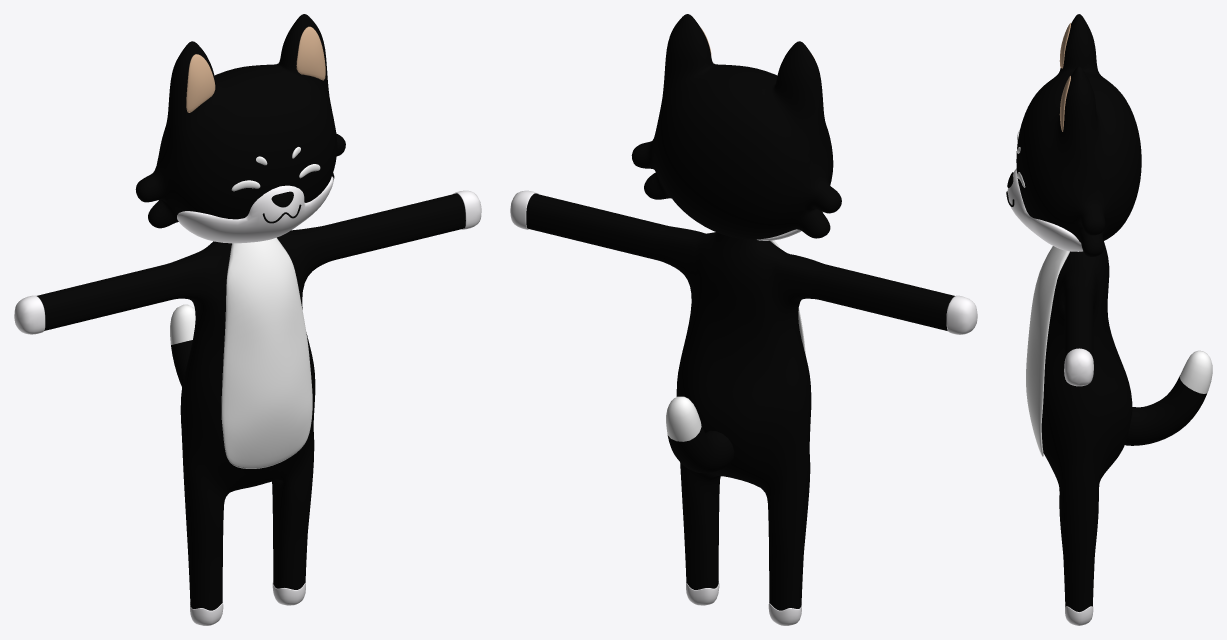
File: connie.glb
3 views of the same model, side by side, from view 1: azimuth 30°, elevation 25°; view 2: azimuth 150°, elevation 25°; view 3: azimuth 270°, elevation 25° (orthographic). The views are drawn at different scales.
Visible parts, largest first — view 1: Cube.001, Cube, Cube.004, Cube.002, Cube.005, Cube.003, Plane.003; view 2: Cube.001, Cube, Plane.003, Cube.005; view 3: Cube.001, Cube, Plane.003, Cube.004, Cube.002, Cube.005, Cube.003.
Part boxes in pixels (x1,y1,x2,y2): Cube.001: (37, 193, 465, 610); Cube: (135, 14, 345, 228); Cube.004: (221, 237, 312, 468); Cube.002: (177, 176, 333, 243); Cube.005: (14, 190, 481, 625); Cube.003: (186, 26, 325, 112); Plane.003: (170, 304, 195, 386); Cube.001: (526, 193, 954, 610); Cube: (631, 14, 841, 239); Plane.003: (666, 396, 734, 473); Cube.005: (510, 190, 977, 625); Cube.001: (1041, 241, 1132, 611); Cube: (1016, 14, 1141, 256); Plane.003: (1125, 350, 1212, 445); Cube.004: (1026, 246, 1069, 456); Cube.002: (1007, 168, 1082, 251); Cube.005: (1064, 348, 1093, 625); Cube.003: (1059, 23, 1070, 131).
Size of the model in its own units: 5.54 by 6.72 by 2.23.
